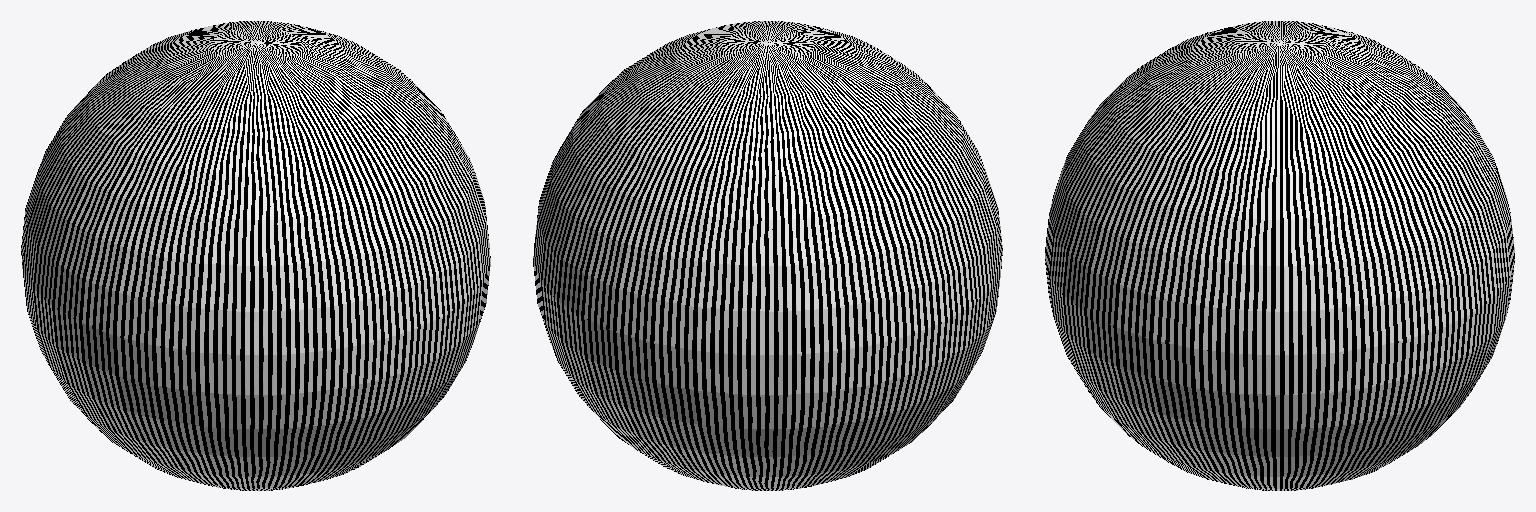
The picture shows the model from 3 angles: view 1: azimuth 30°, elevation 25°; view 2: azimuth 150°, elevation 25°; view 3: azimuth 270°, elevation 25°; orthographic projection.
Visible parts, largest first — view 1: Sphere; view 2: Sphere; view 3: Sphere.
Part boxes in pixels (x1,y1,x2,y2): Sphere: (21, 21, 490, 490); Sphere: (533, 21, 1002, 490); Sphere: (1045, 21, 1514, 490).
Bounding box in the file's own units: 0.6807 × 0.6807 × 0.6807.
Materials: 1 (1 with a texture image).